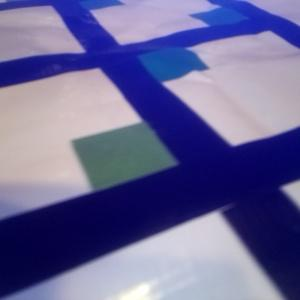bottom_right: (112, 45, 209, 83), (56, 1, 124, 11)
top_left: (71, 122, 205, 214), (190, 7, 258, 33)
